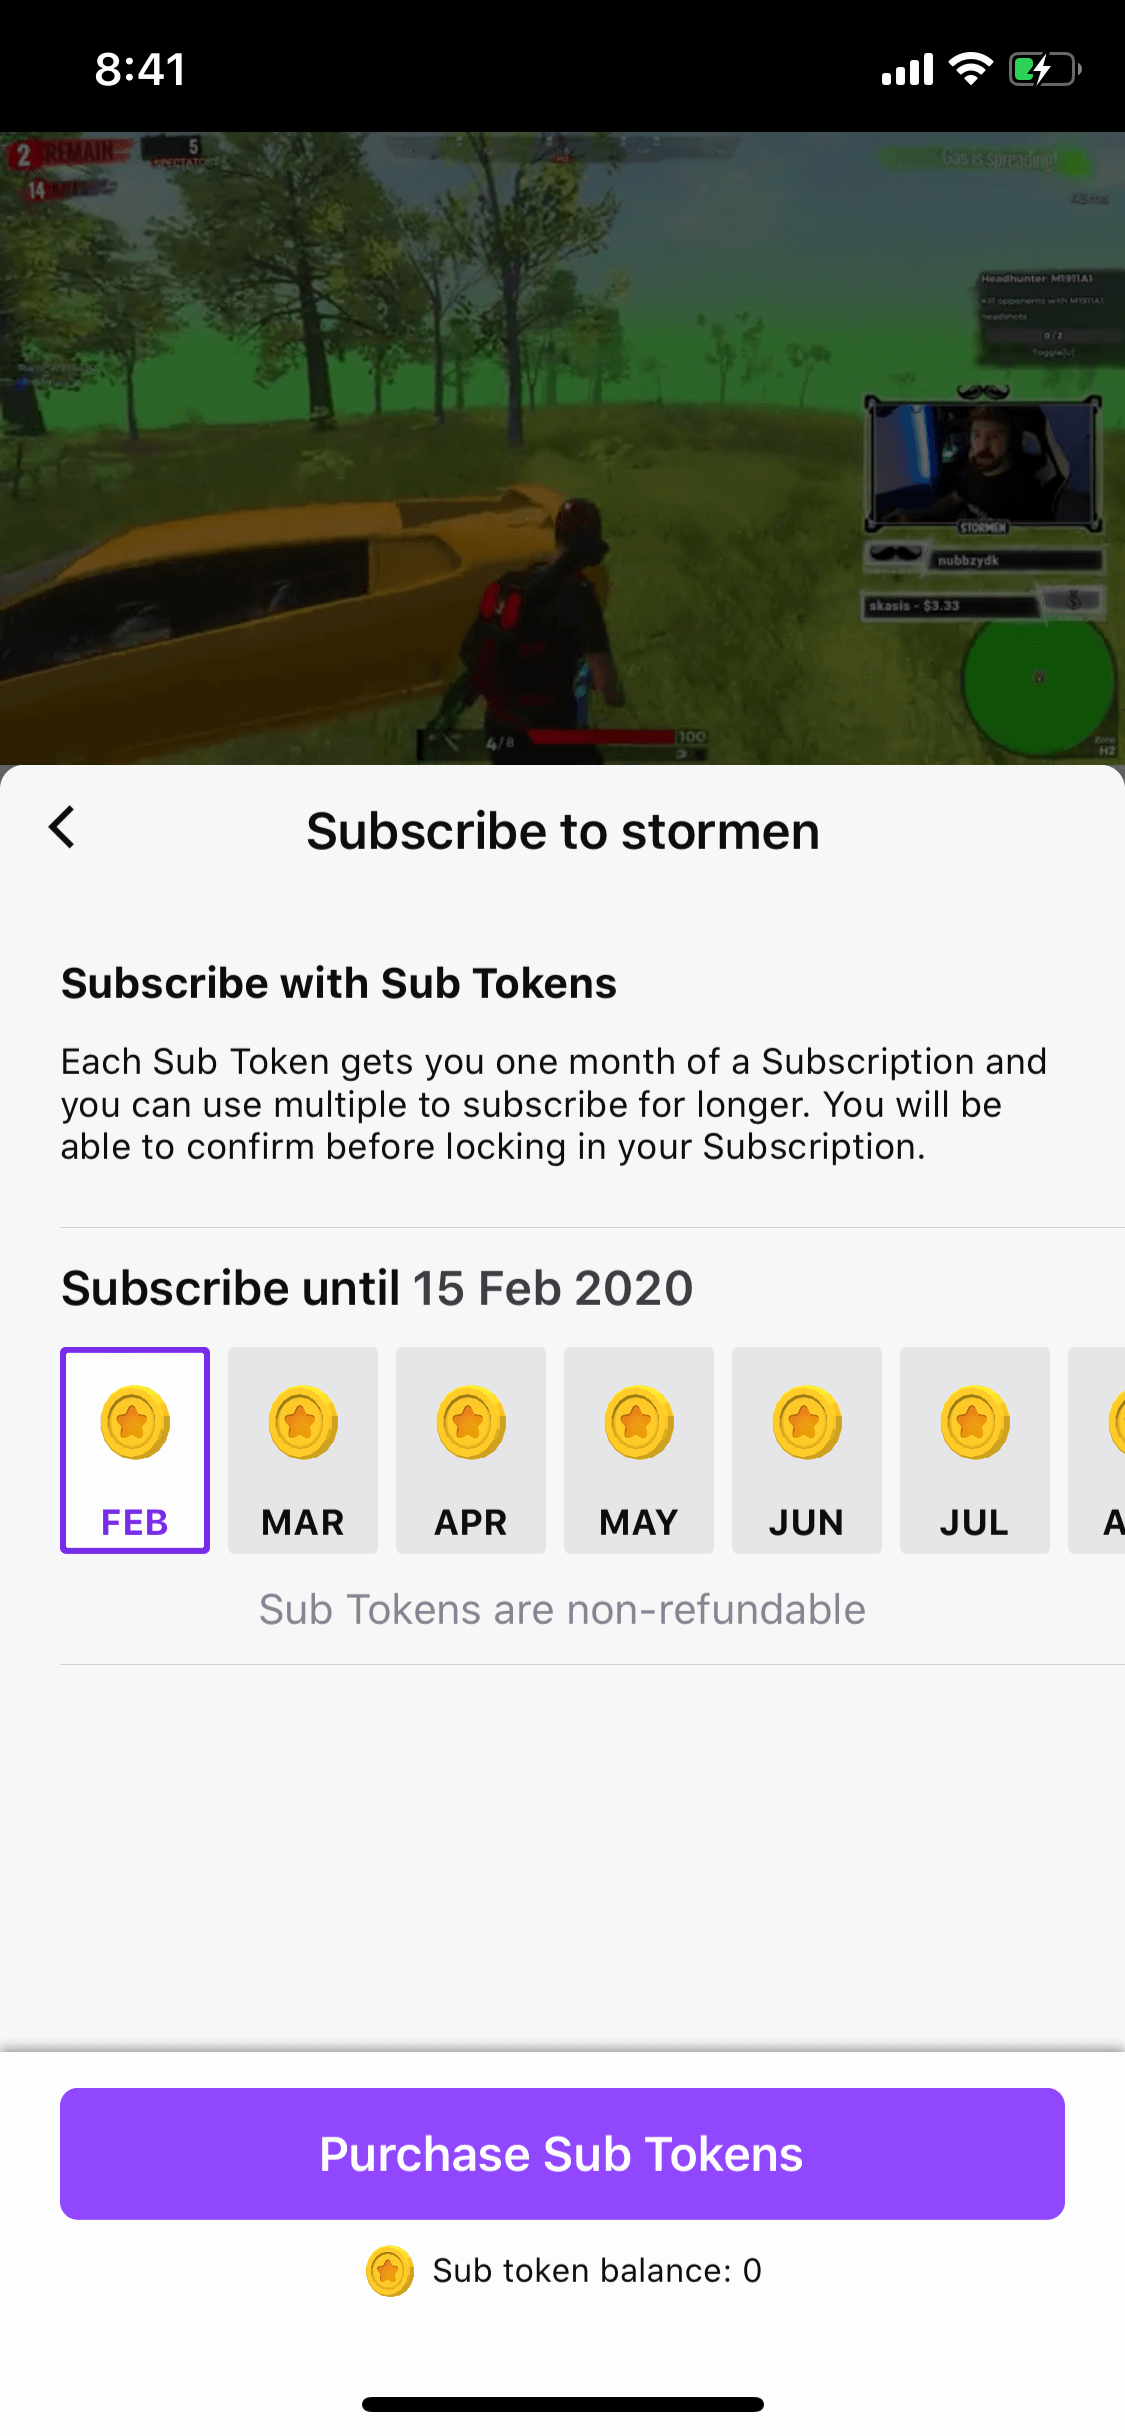Buttons: (40, 2076, 1094, 2236), (16, 775, 123, 881)
